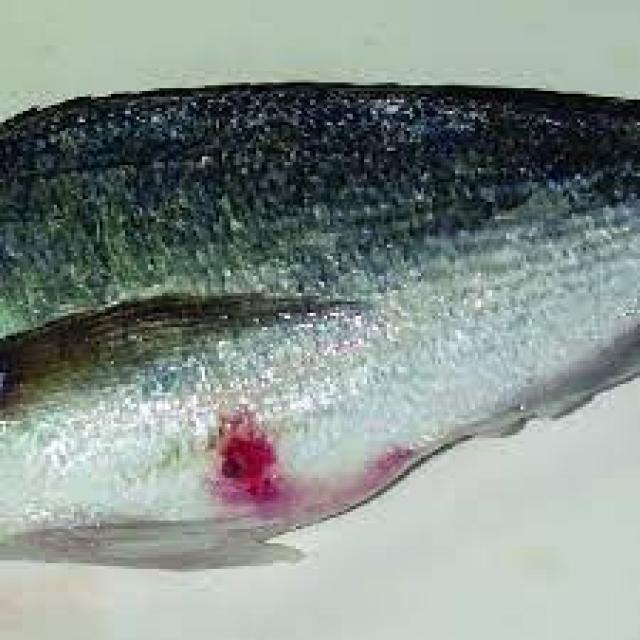EUS Disease: (4, 85, 640, 580), (32, 333, 426, 568)
